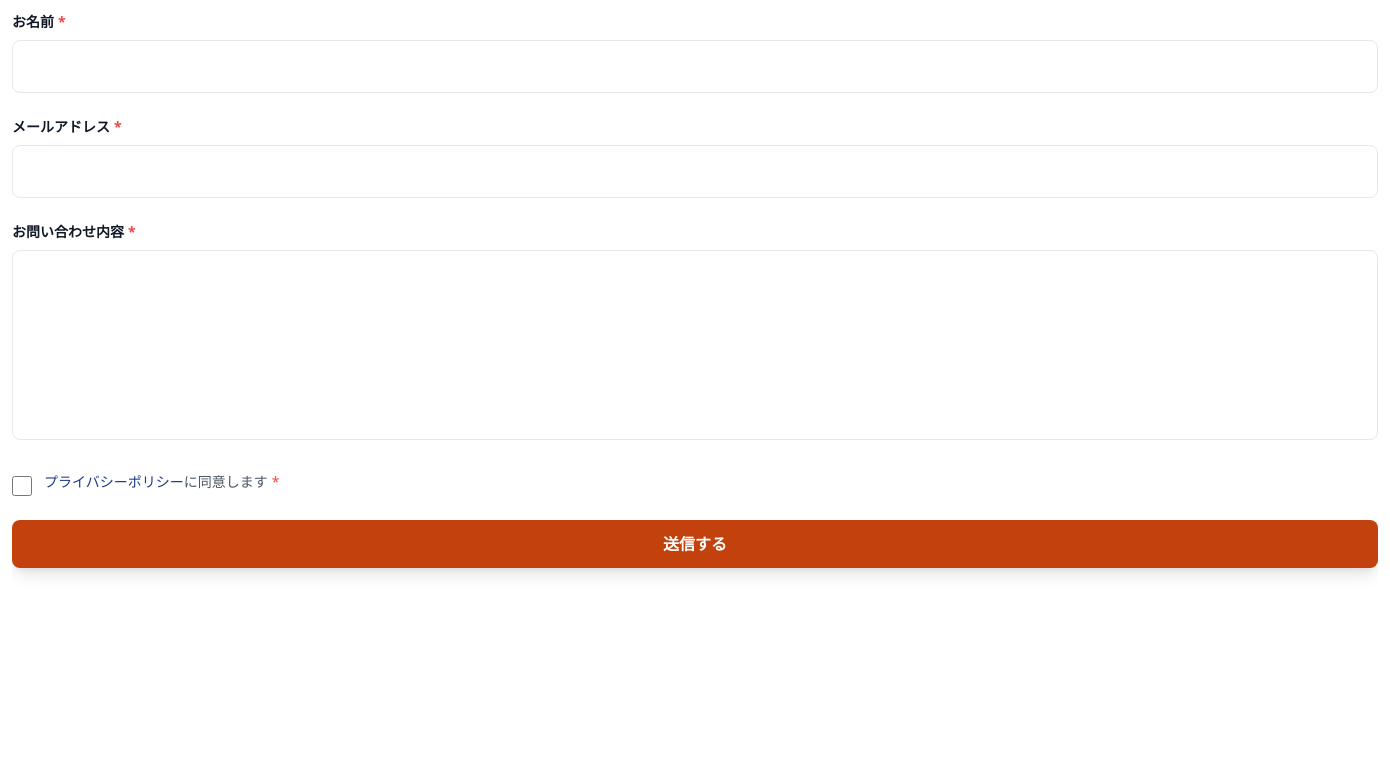
Test: ContactForm › validation › shows error when name is empty
Click the button "送信する".
click(695, 544)  # box x1=12 y1=520 x2=1378 y2=568
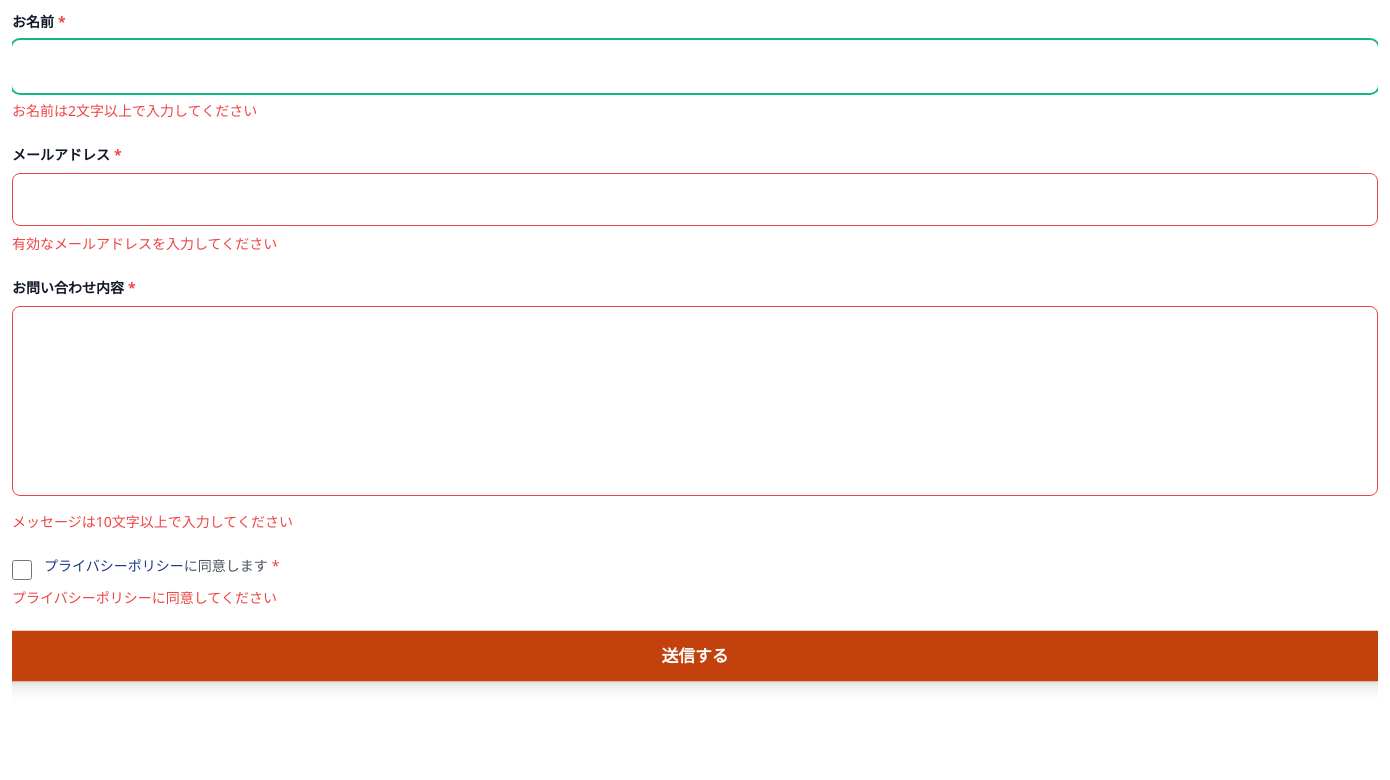
expect the text "お名前は2文字以上で入力してください" is shown: met, box x1=12 y1=101 x2=257 y2=120
